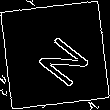N_NW: (23, 24, 87, 86)
